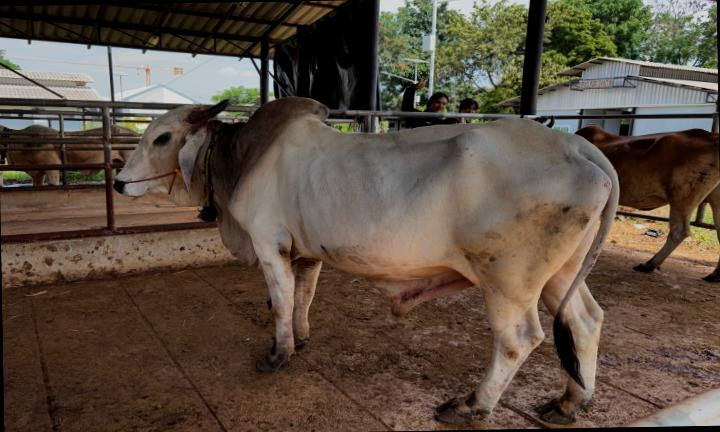Brahman: (114, 97, 619, 423)
